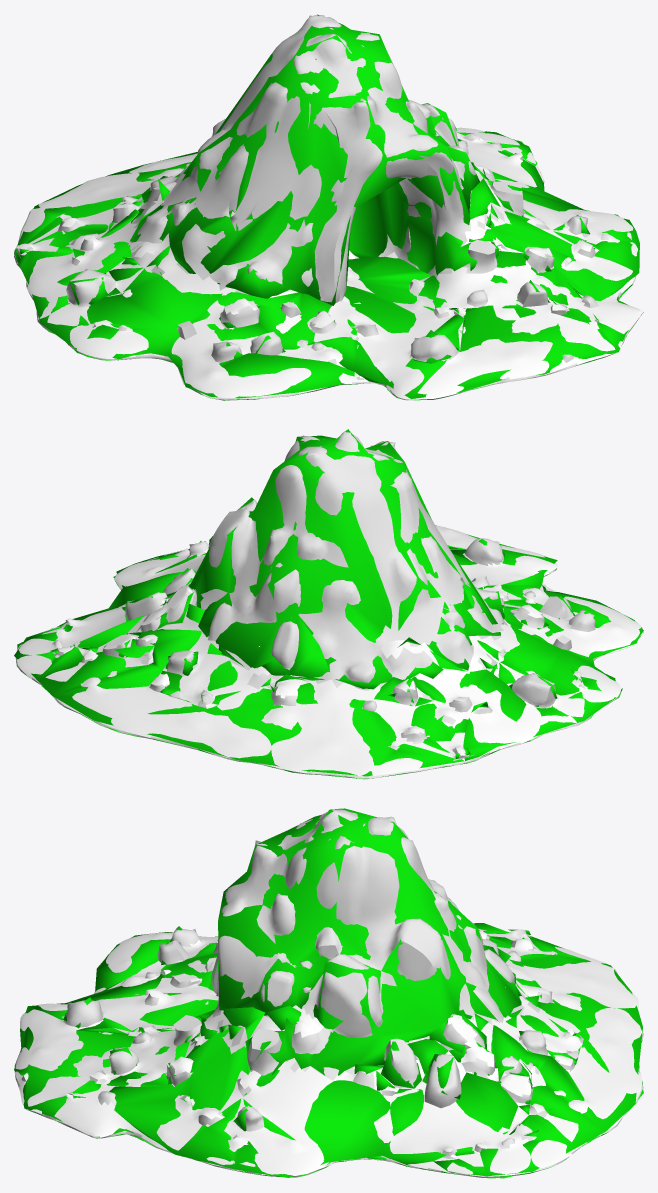
Rendered from PORTALISLANDTOOLS.fbx.
3 renders of one model, top to bottom at view 1: azimuth 30°, elevation 25°; view 2: azimuth 150°, elevation 25°; view 3: azimuth 270°, elevation 25°, orthographic. The views are drawn at different scales.
Visible parts, largest first — view 1: caverocks, terrain, UTM_terrain, UTM_caverocks; view 2: caverocks, terrain, UTM_terrain, UTM_caverocks; view 3: terrain, UTM_terrain, caverocks, UTM_caverocks.
Boxes of the visible parts, x1,y1,x2,y2 form: caverocks: (14, 15, 643, 400); terrain: (14, 127, 643, 399); UTM_terrain: (14, 131, 639, 398); UTM_caverocks: (17, 14, 632, 363); caverocks: (16, 431, 642, 778); terrain: (16, 525, 643, 776); UTM_terrain: (14, 525, 643, 776); UTM_caverocks: (17, 429, 622, 779); terrain: (14, 929, 643, 1176); UTM_terrain: (14, 923, 642, 1177); caverocks: (15, 808, 643, 1177); UTM_caverocks: (63, 808, 643, 1178).
Bounding box in the file's own units: 1793 × 766 × 1784.
